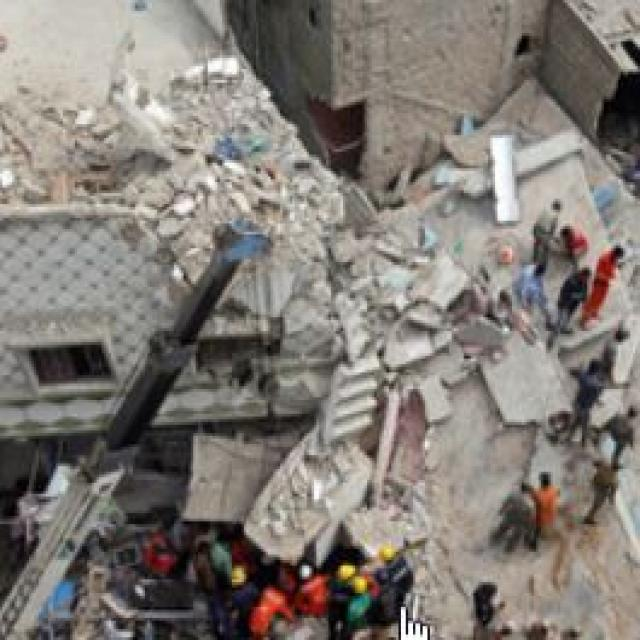collapsed_building: (5, 91, 350, 486), (377, 99, 638, 541)
